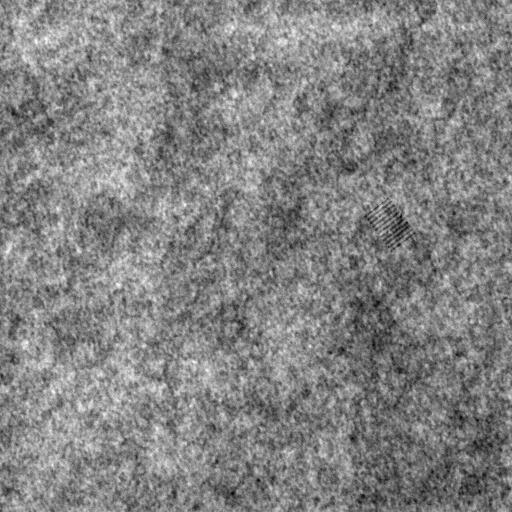DefectTypeB: (366, 195, 414, 251)
